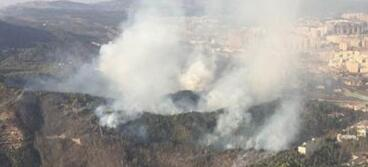yanwu: (38, 0, 340, 151)
